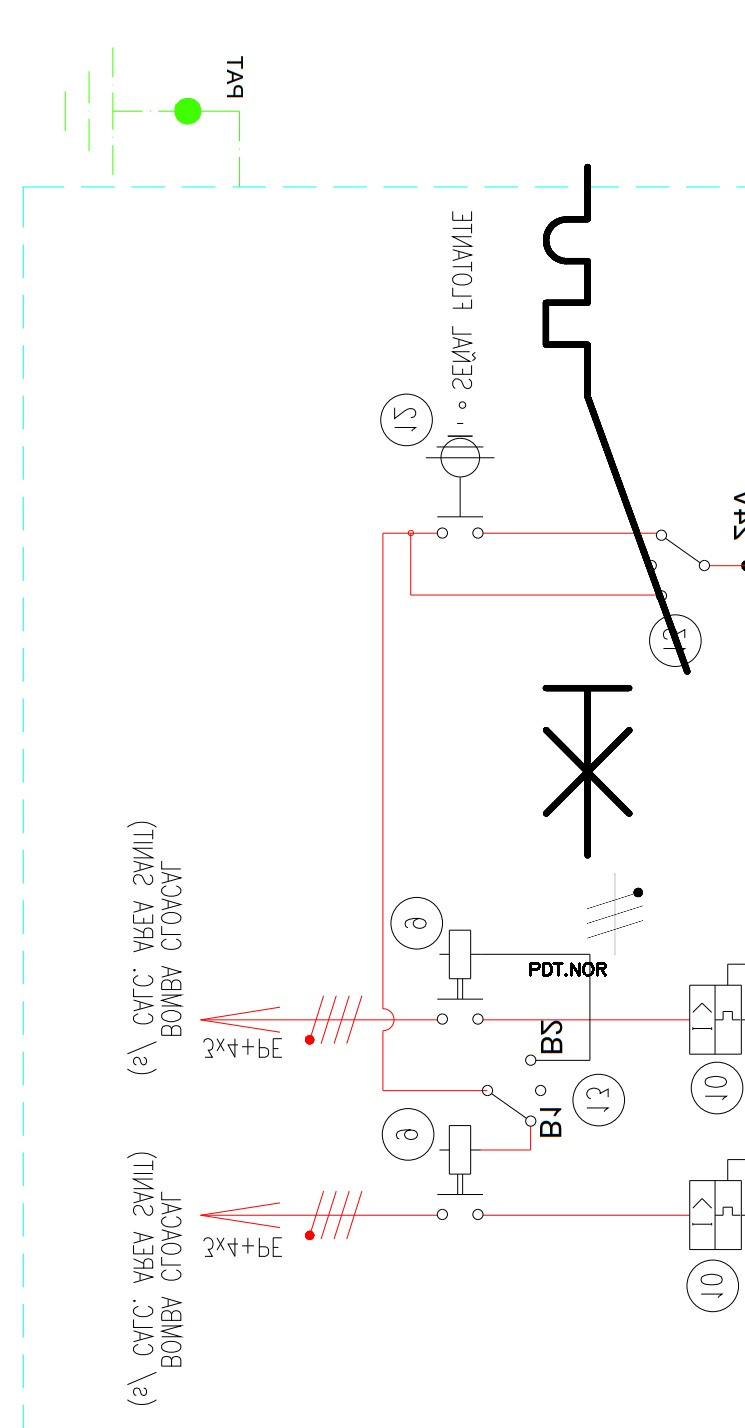interruptor_termomagnetico: (528, 149, 705, 873)
